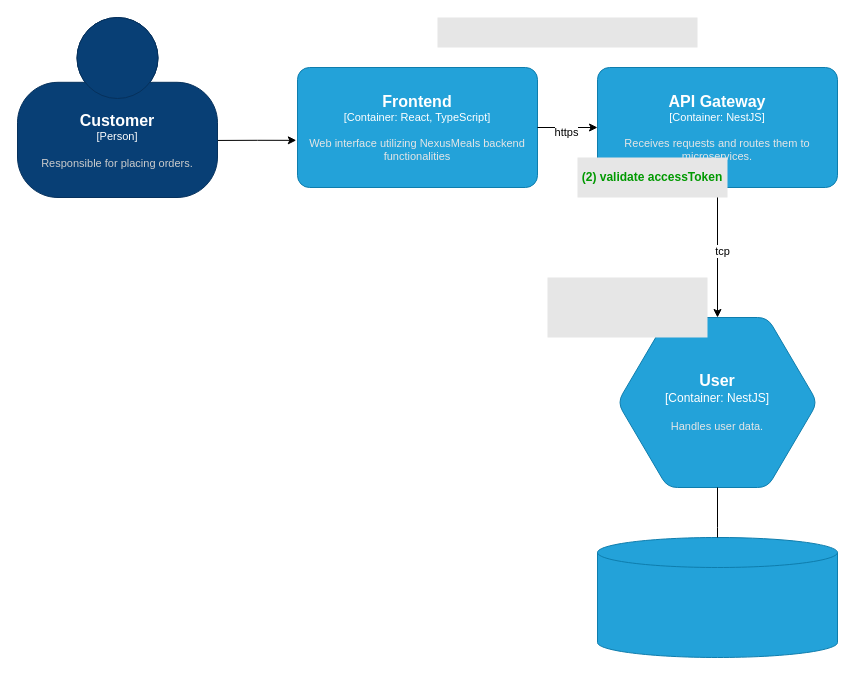
Image size: 855x675. Some labels were removed from this diagram. The shapes that lost their labels are listed below. From the top down, each one's centre as x and y in pixels, then its label:
pixel 567 32: (1) getChefs [DeliveryAddress]
pixel 627 307: (3) getChefs [DeliveryAddress] (4) return: ChefDTO[]
pixel 717 597: UserDB [Container: MySQL] Stores authentication credentials, and roles of users.
